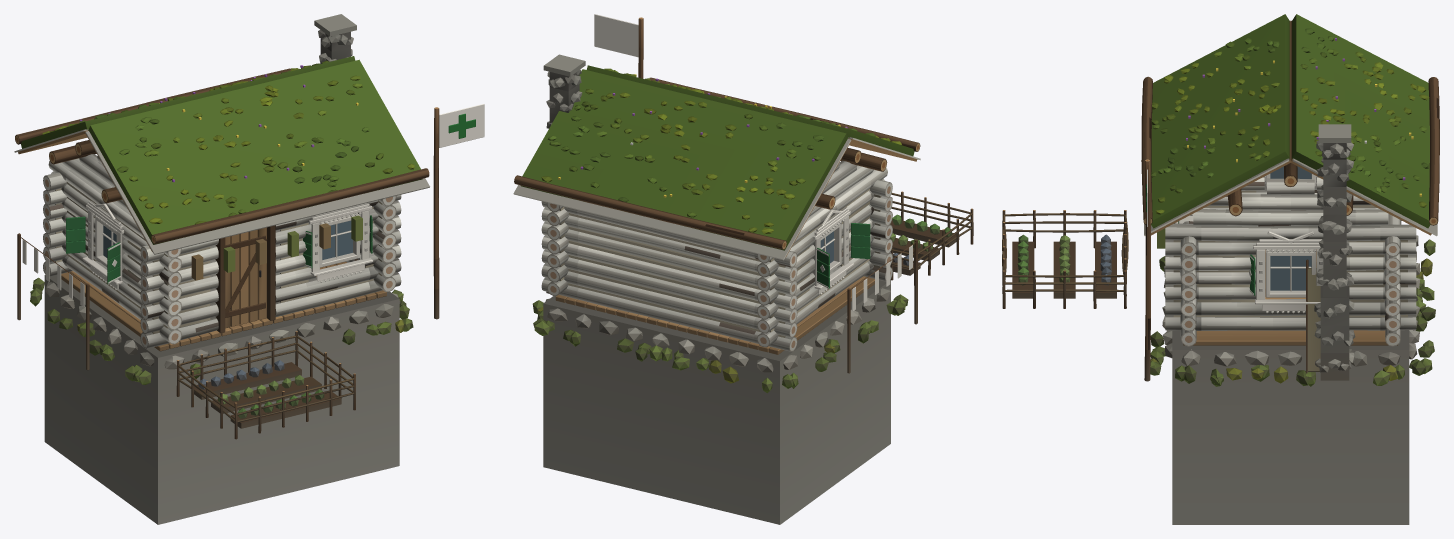
The model's file is sifaci.glb.
3 renders of one model, left to right at view 1: azimuth 30°, elevation 25°; view 2: azimuth 150°, elevation 25°; view 3: azimuth 270°, elevation 25°, orthographic. The views are drawn at different scales.
Visible parts, largest first — view 1: stone-plinth-001, shingle-sod-001, thatch-herbs-002, wood-fence-003, plank-door-002, shingle-sod-002, log-turflog-058, plank-001, plank-trim-003, stone-found-004, stone-found-002, plank-trim-006 (+28 smaller); view 2: stone-plinth-001, shingle-sod-002, stone-found-003, log-022, log-008, log-014, log-038, log-030, log-003, shingle-sod-001, log-turflog-059, plank-001 (+20 smaller); view 3: stone-plinth-001, shingle-sod-001, shingle-sod-002, thatch-herbs-002, wood-fence-003, log-048, stone-found-005, plank-trim-009, log-050, log-005, plank-001, log-010 (+26 smaller).
Boxes of the visible parts, <box> form: stone-plinth-001: <box>44,261,399,524</box>; shingle-sod-001: <box>85,59,429,254</box>; thatch-herbs-002: <box>194,360,341,428</box>; wood-fence-003: <box>176,331,355,439</box>; plank-door-002: <box>225,227,267,328</box>; shingle-sod-002: <box>14,56,355,154</box>; log-turflog-058: <box>151,168,429,243</box>; plank-001: <box>61,261,386,351</box>; plank-trim-003: <box>309,203,373,282</box>; stone-found-004: <box>30,282,154,384</box>; stone-found-002: <box>164,304,413,378</box>; plank-trim-006: <box>82,200,125,290</box>; stone-plinth-001: <box>543,280,890,524</box>; shingle-sod-002: <box>513,69,851,260</box>; stone-found-003: <box>533,308,773,392</box>; log-022: <box>541,235,797,309</box>; log-008: <box>541,263,797,337</box>; log-014: <box>541,249,797,323</box>; log-038: <box>541,207,797,282</box>; log-030: <box>541,221,797,295</box>; log-003: <box>541,277,797,351</box>; shingle-sod-001: <box>586,65,920,161</box>; log-turflog-059: <box>514,175,786,249</box>; plank-001: <box>555,276,874,354</box>; stone-plinth-001: <box>1172,330,1409,524</box>; shingle-sod-001: <box>1144,14,1290,235</box>; shingle-sod-002: <box>1290,14,1437,236</box>; thatch-herbs-002: <box>1012,234,1116,298</box>; wood-fence-003: <box>1002,210,1128,308</box>; log-048: <box>1165,223,1416,242</box>; stone-found-005: <box>1175,349,1404,386</box>; plank-trim-009: <box>1253,231,1323,313</box>; log-050: <box>1193,208,1388,226</box>; log-005: <box>1165,315,1416,330</box>; plank-001: <box>1183,249,1397,345</box>; log-010: <box>1165,299,1416,317</box>.
Bounding box in the file's own units: 7.98 × 8.02 × 7.94.
